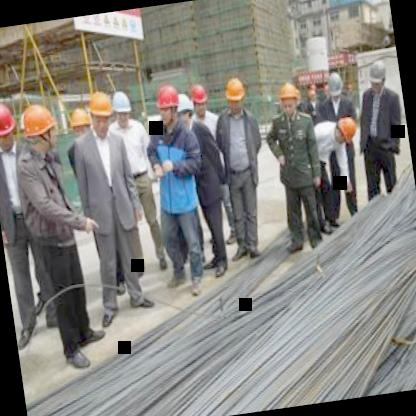helmet: (19, 101, 60, 156), (64, 100, 94, 154), (153, 83, 185, 129), (85, 88, 115, 134), (221, 72, 249, 115), (328, 113, 360, 148), (364, 54, 391, 95), (275, 77, 302, 117), (171, 91, 196, 133), (110, 87, 135, 128), (0, 98, 18, 151), (188, 80, 212, 118), (324, 70, 344, 100)
